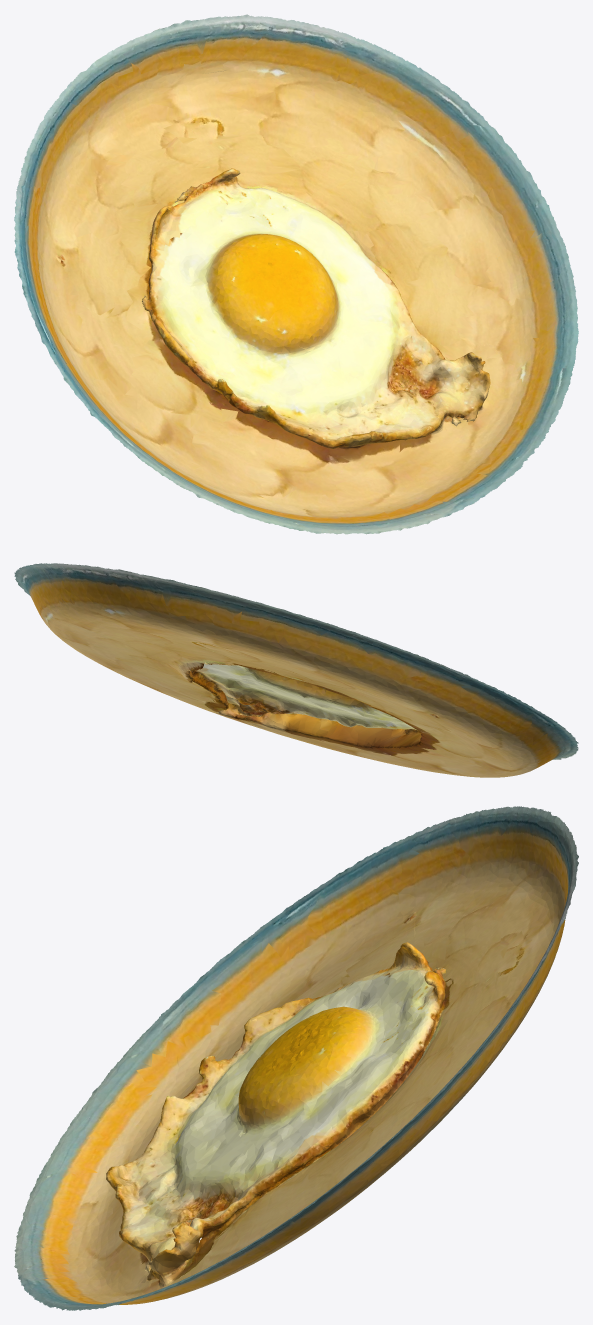
The model's file is Spiegelei.fbx.
3 renders of one model, top to bottom at view 1: azimuth 30°, elevation 25°; view 2: azimuth 150°, elevation 25°; view 3: azimuth 270°, elevation 25°, orthographic. The views are drawn at different scales.
Parts seen in each view (by area): view 1: Spiegelei_tex_high; view 2: Spiegelei_tex_high; view 3: Spiegelei_tex_high.
Part boxes in pixels (x1,y1,x2,y2): Spiegelei_tex_high: (14, 14, 578, 534); Spiegelei_tex_high: (14, 563, 578, 777); Spiegelei_tex_high: (14, 806, 578, 1310).
Size of the model in its own units: 18.76 by 11.56 by 14.79.
